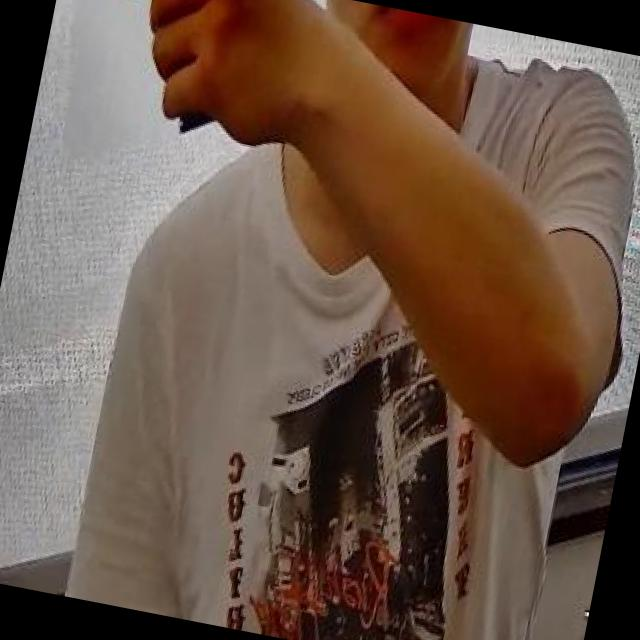Guns: (57, 0, 282, 45)
